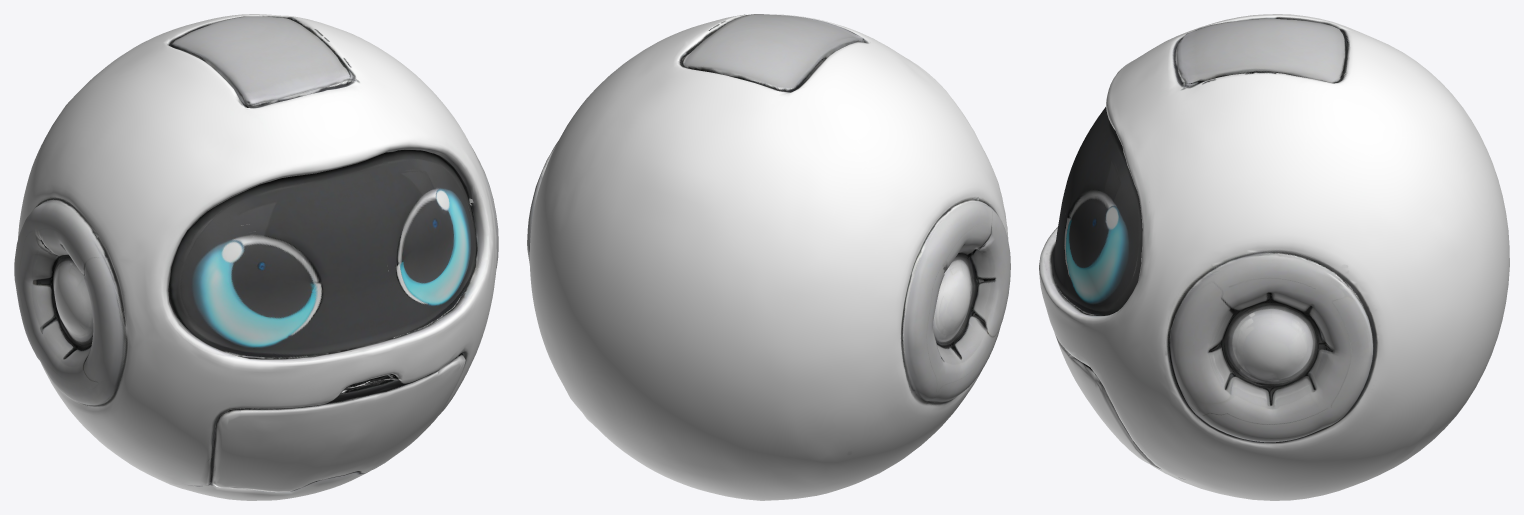
The model's file is rayminator.glb.
3 renders of one model, left to right at view 1: azimuth 30°, elevation 25°; view 2: azimuth 150°, elevation 25°; view 3: azimuth 270°, elevation 25°, orthographic.
Size of the model in its own units: 1.89 by 2 by 1.95.
Materials: 1 (1 with a texture image).
